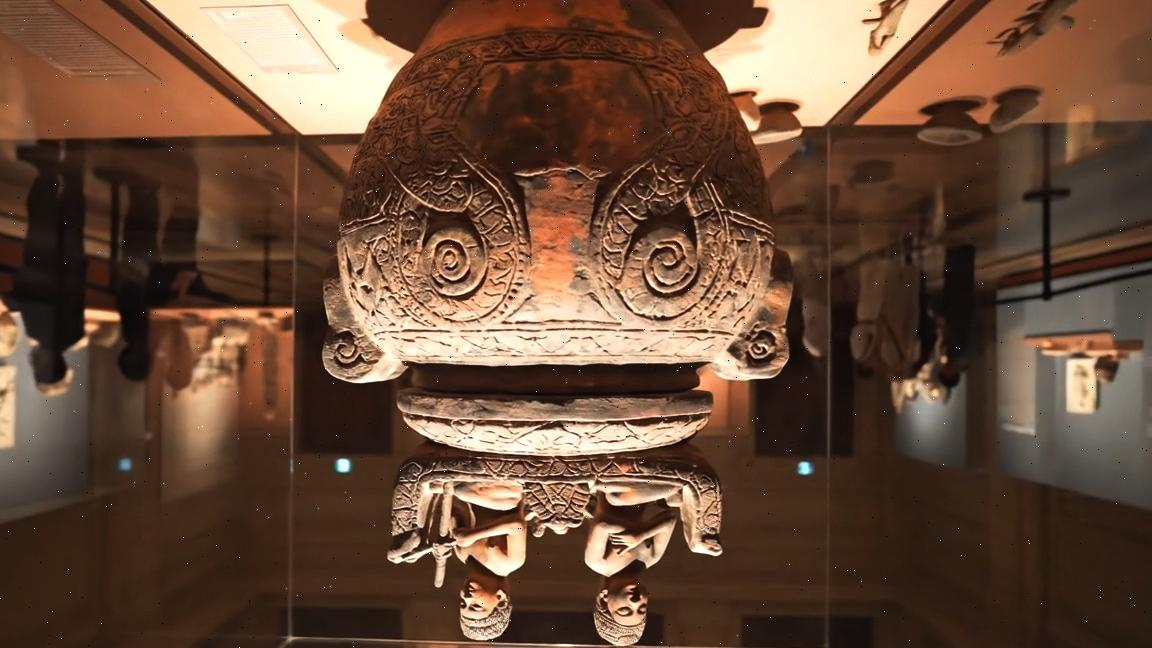manunggul_jar: (311, 0, 799, 648)
